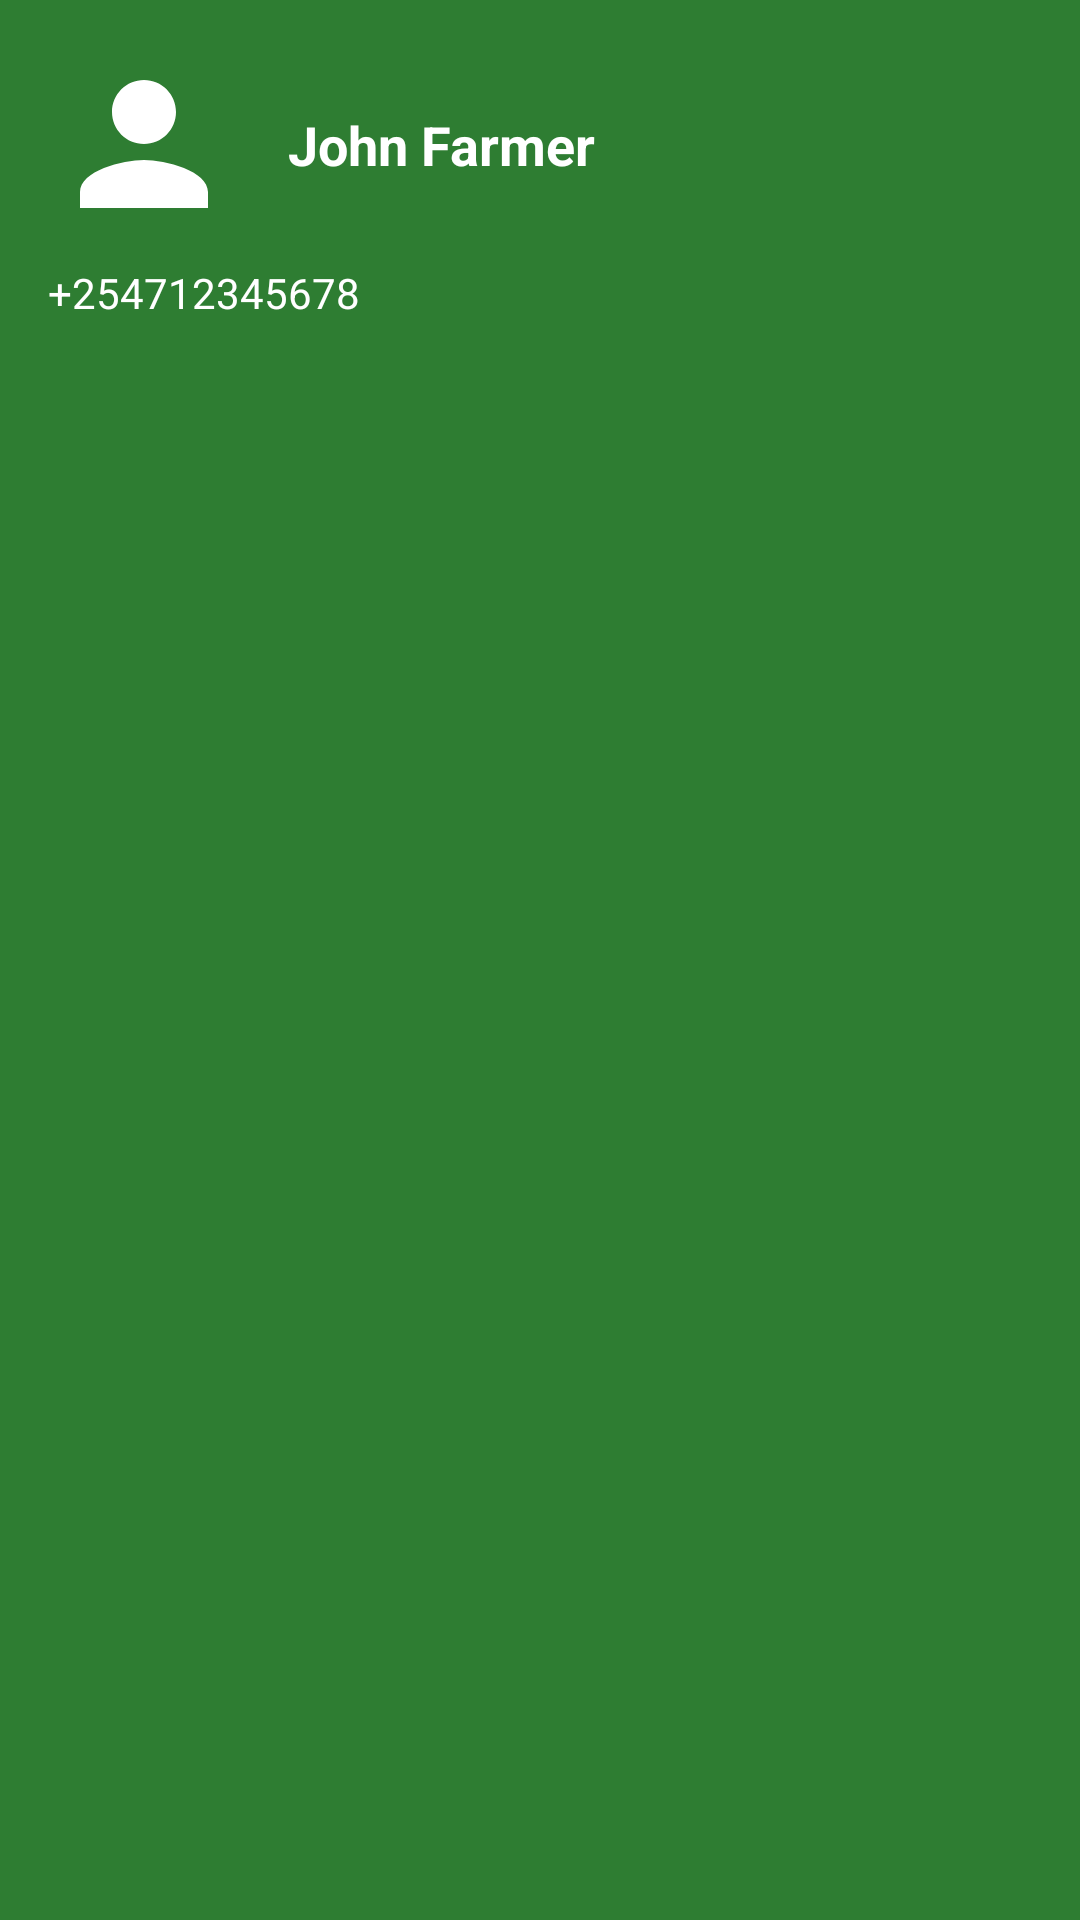

Where icons sit on this 1080px×1920px app screen, as (x1, y1, x2, y2):
profile: (80, 80, 208, 208)
